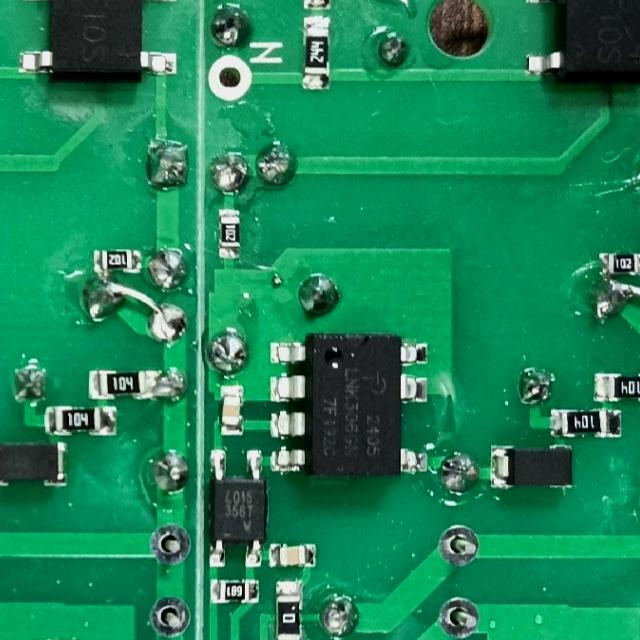chip-capacitor: (218, 383, 243, 437), (267, 543, 317, 569)
chip-resistor: (548, 408, 624, 440), (42, 404, 117, 436), (300, 14, 331, 91), (86, 369, 154, 400), (272, 578, 304, 640), (206, 578, 262, 606), (591, 372, 640, 404), (215, 206, 241, 262), (91, 247, 141, 275), (598, 251, 640, 277)
diode: (488, 442, 575, 490), (0, 439, 69, 489)
ic: (268, 331, 430, 477), (16, 0, 179, 80), (522, 0, 640, 84), (206, 446, 266, 570)
